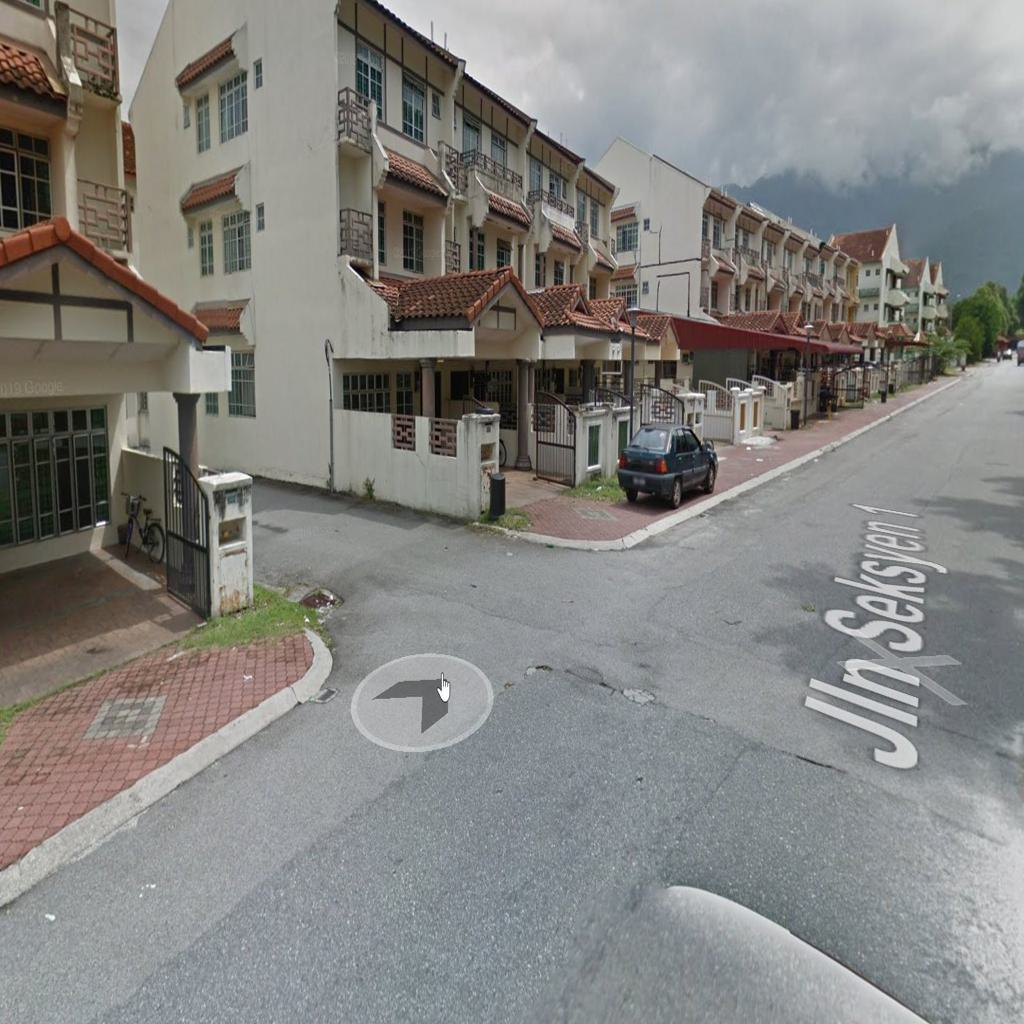Junction: (254, 470, 655, 740)
